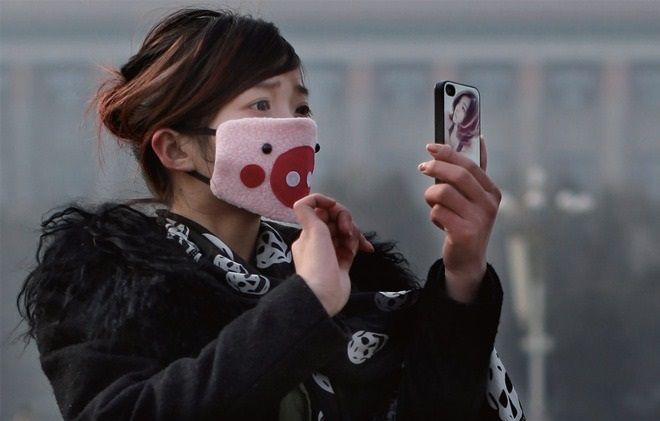face_mask: (204, 59, 315, 203)
